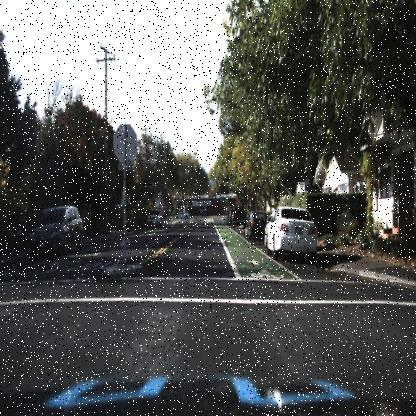car: (22, 191, 83, 250), (260, 204, 318, 261), (242, 211, 267, 245), (232, 204, 248, 229), (143, 204, 161, 226), (171, 208, 192, 221)
